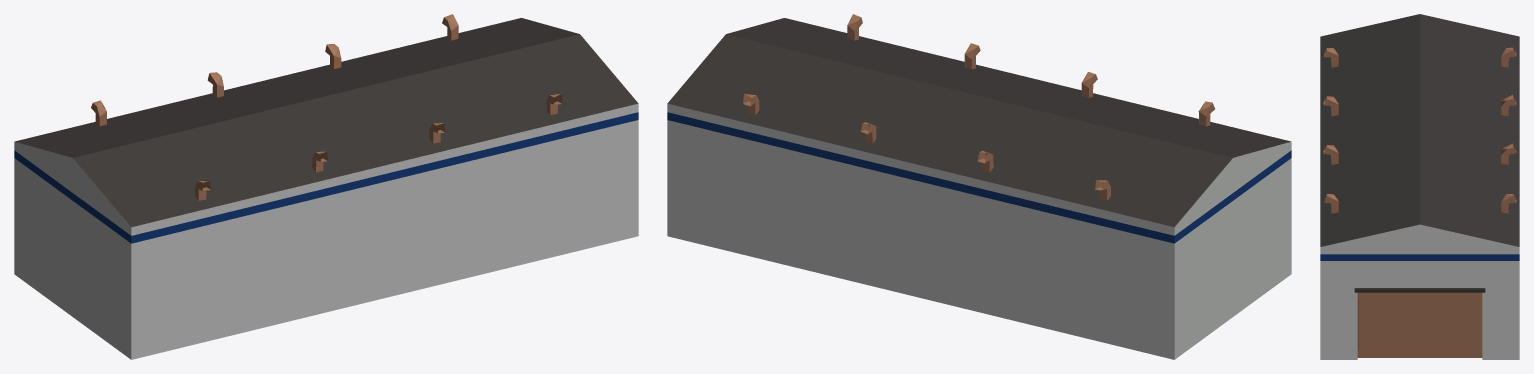
Rendered from SM_Factory_Warehouse_05.glb.
3 views of the same model, side by side, from view 1: azimuth 30°, elevation 25°; view 2: azimuth 150°, elevation 25°; view 3: azimuth 270°, elevation 25° (orthographic). The views are drawn at different scales.
Visible parts, largest first — view 1: SM_Factory_Warehouse_05; view 2: SM_Factory_Warehouse_05; view 3: SM_Factory_Warehouse_05.
Boxes of the visible parts, x1,y1,x2,y2 form: SM_Factory_Warehouse_05: (14, 14, 638, 359); SM_Factory_Warehouse_05: (667, 14, 1291, 359); SM_Factory_Warehouse_05: (1320, 14, 1519, 359).
Bounding box in the file's own units: 20.16 × 6 × 8.
1 material, 1 textured.
